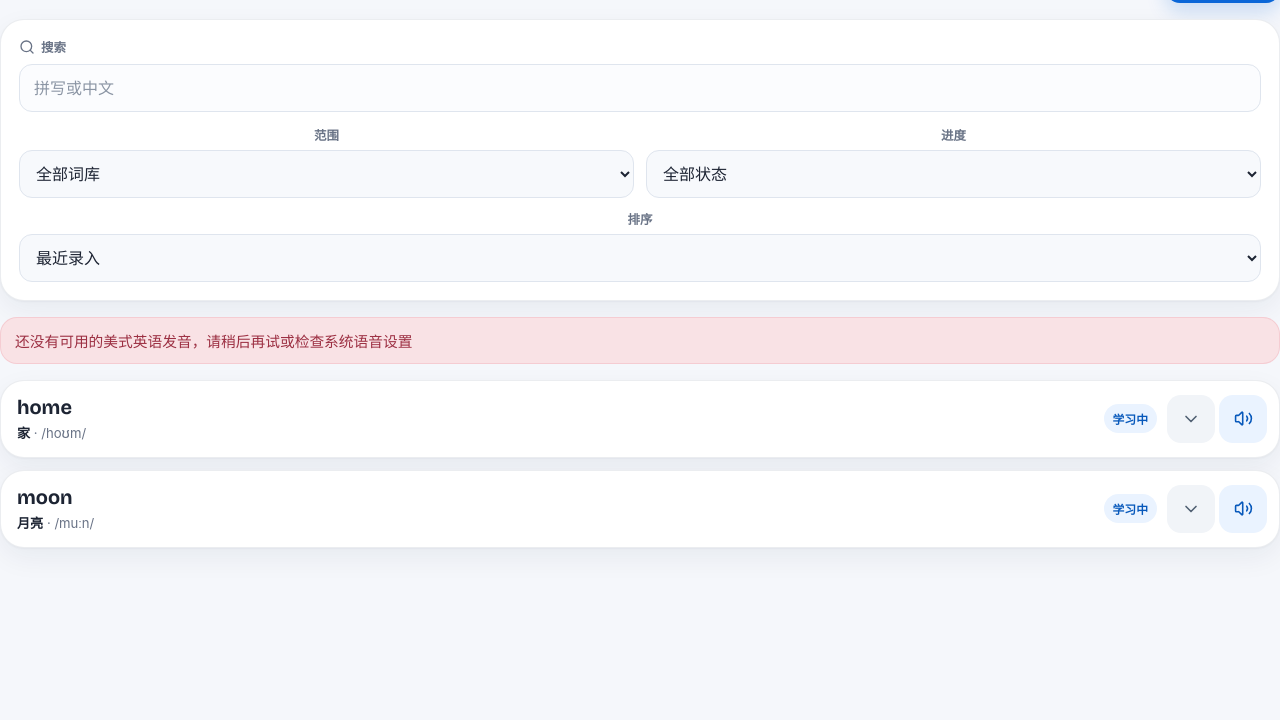
Test: WordsPage compact management › discards an unfinished edit when the parent opens another word
Click the button with aria-label "查看 home 详情": coordinates (44, 407) [1,381,1215,457]
(page scrolled)
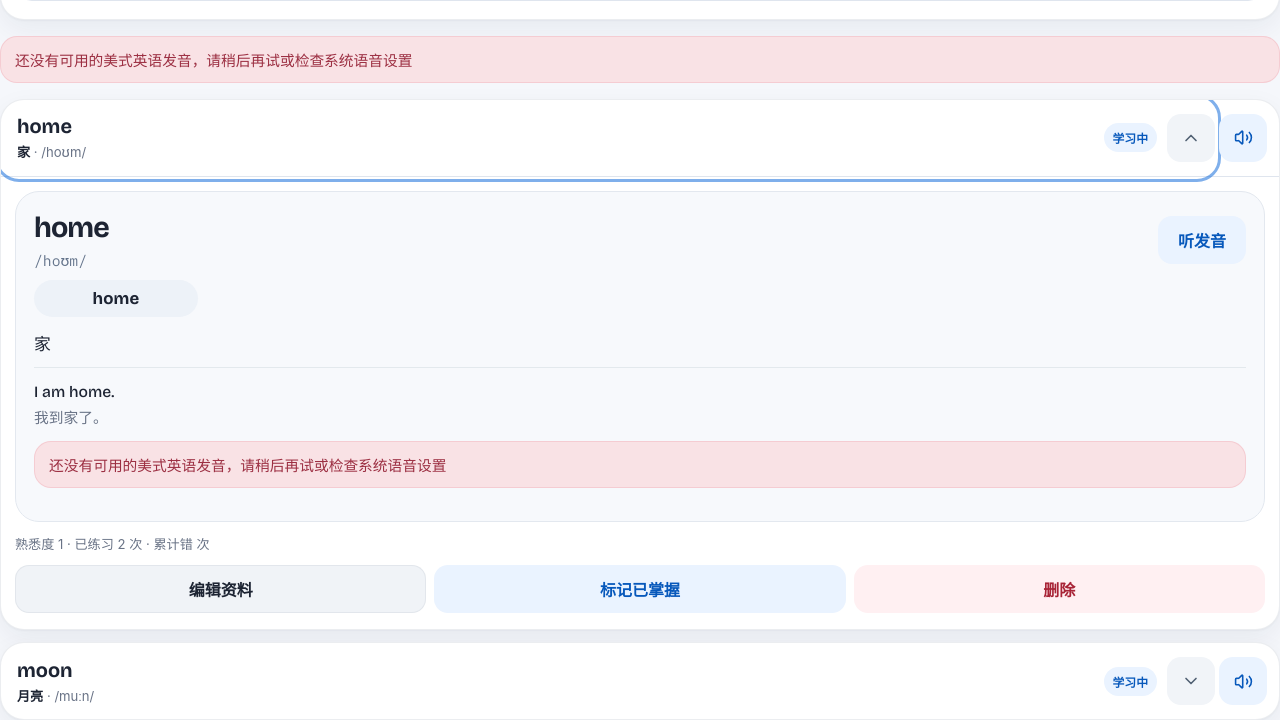
Click the button with aria-label "编辑 home": coordinates (221, 589) [15,565,426,613]
(page scrolled)
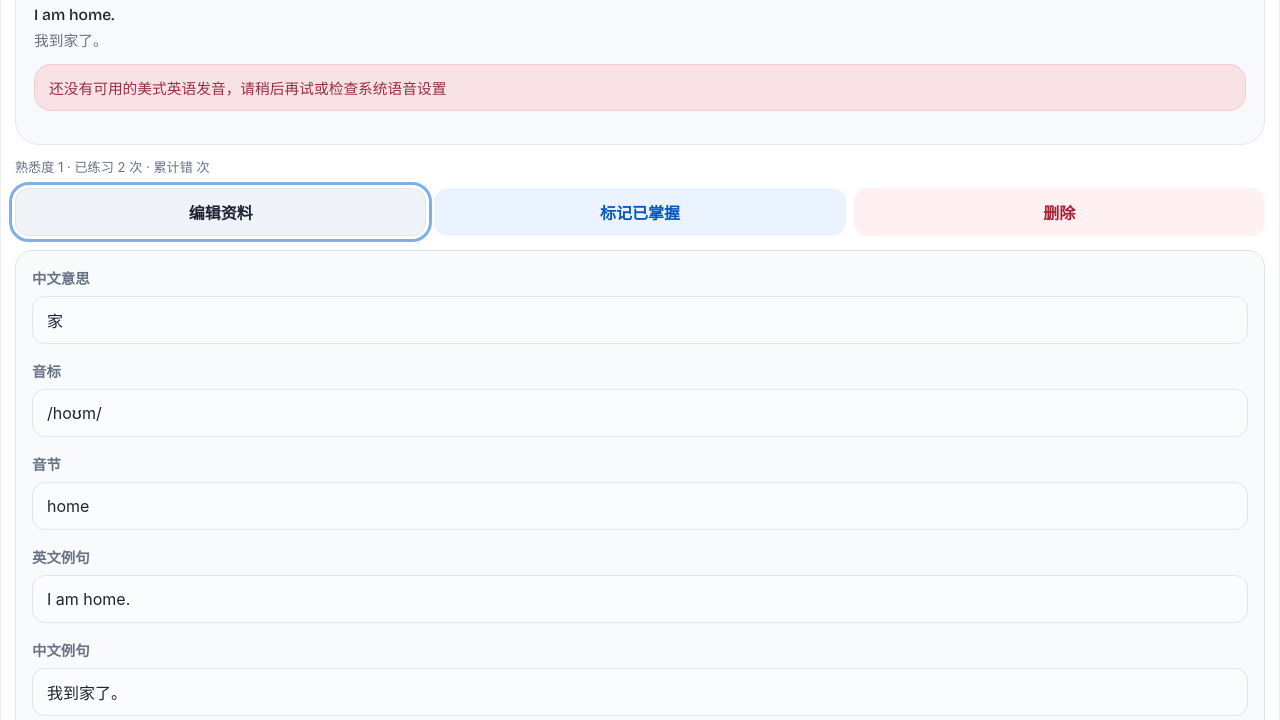
Replace the text in the field labelled "中文意思" with "房子": coordinates (640, 320) [32,296,1248,344]
(page scrolled)
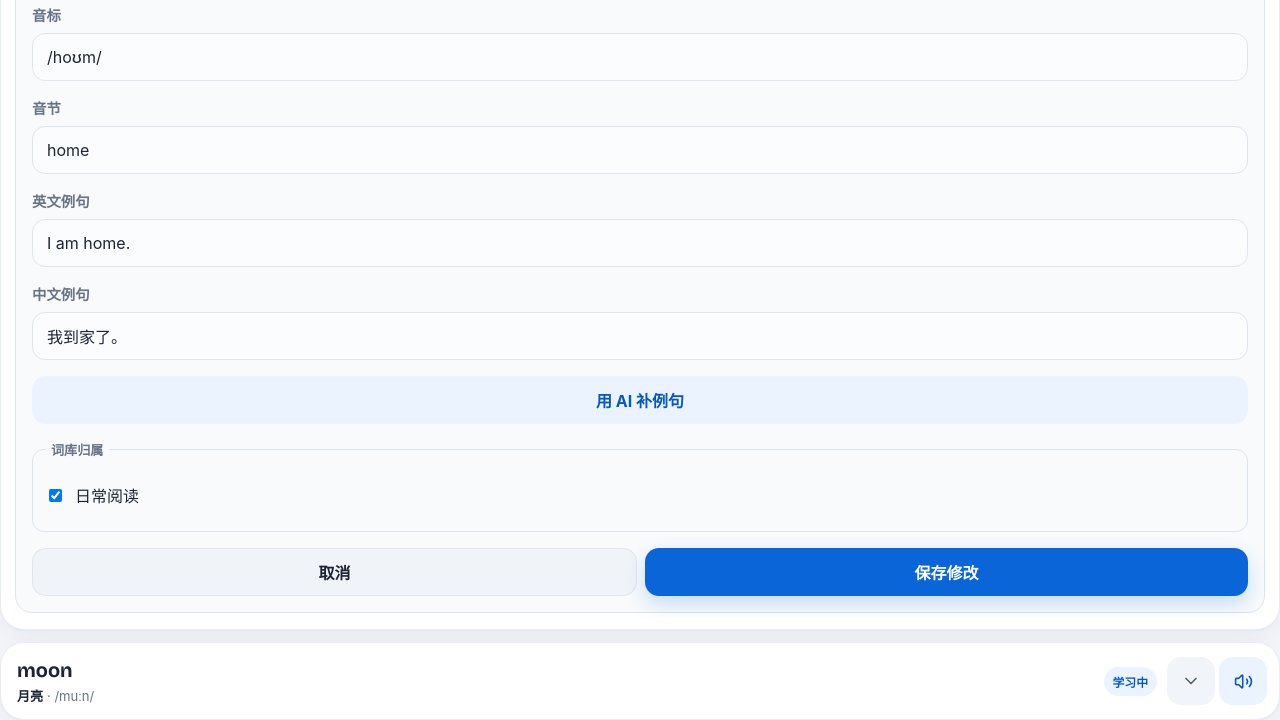
Click the button with aria-label "查看 moon 详情": coordinates (45, 670) [1,643,1215,719]
(page scrolled)
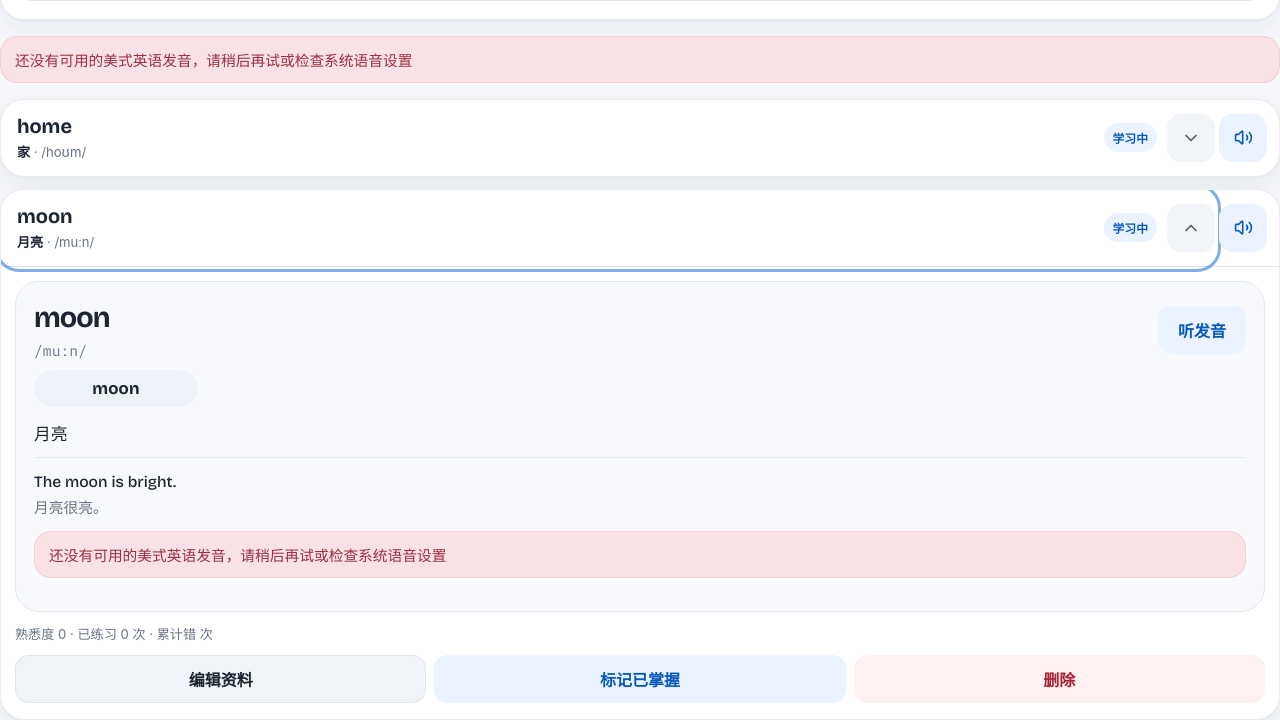
Click the button with aria-label "查看 home 详情": coordinates (44, 126) [1,100,1215,176]
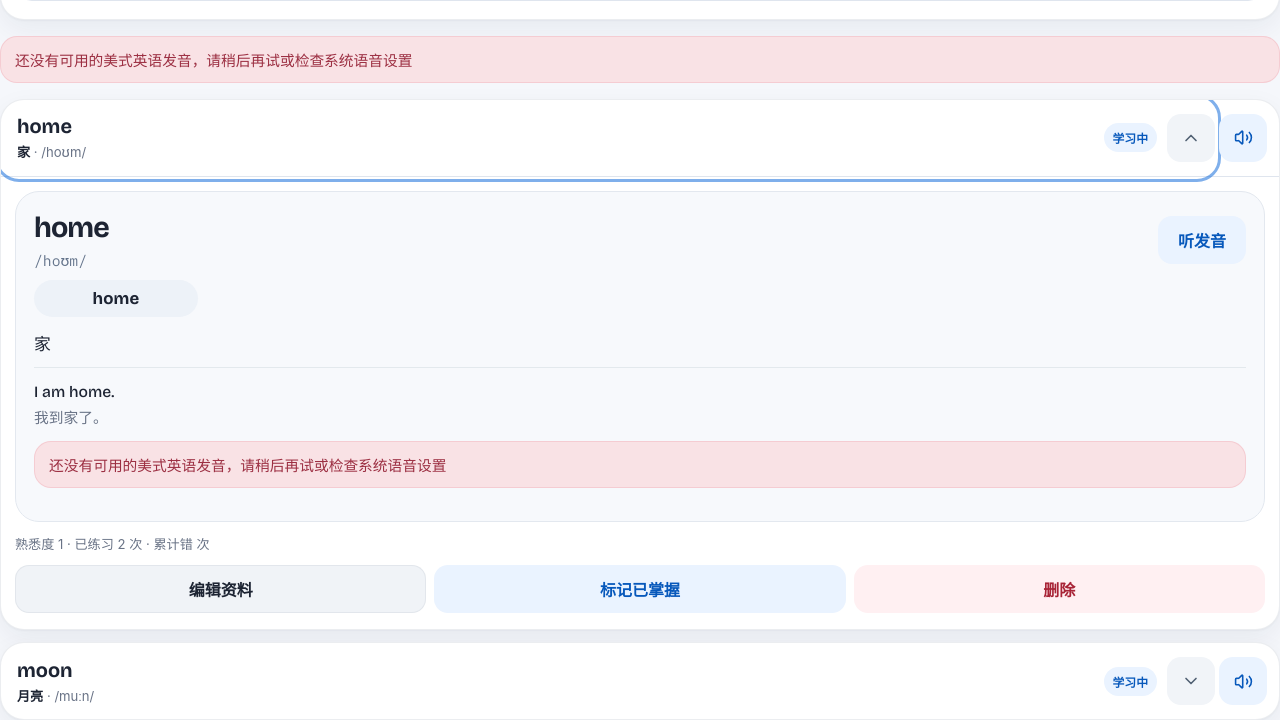
Expected: the label labelled "中文意思" is not shown
Click the button with aria-label "编辑 home": coordinates (221, 589) [15,565,426,613]
(page scrolled)
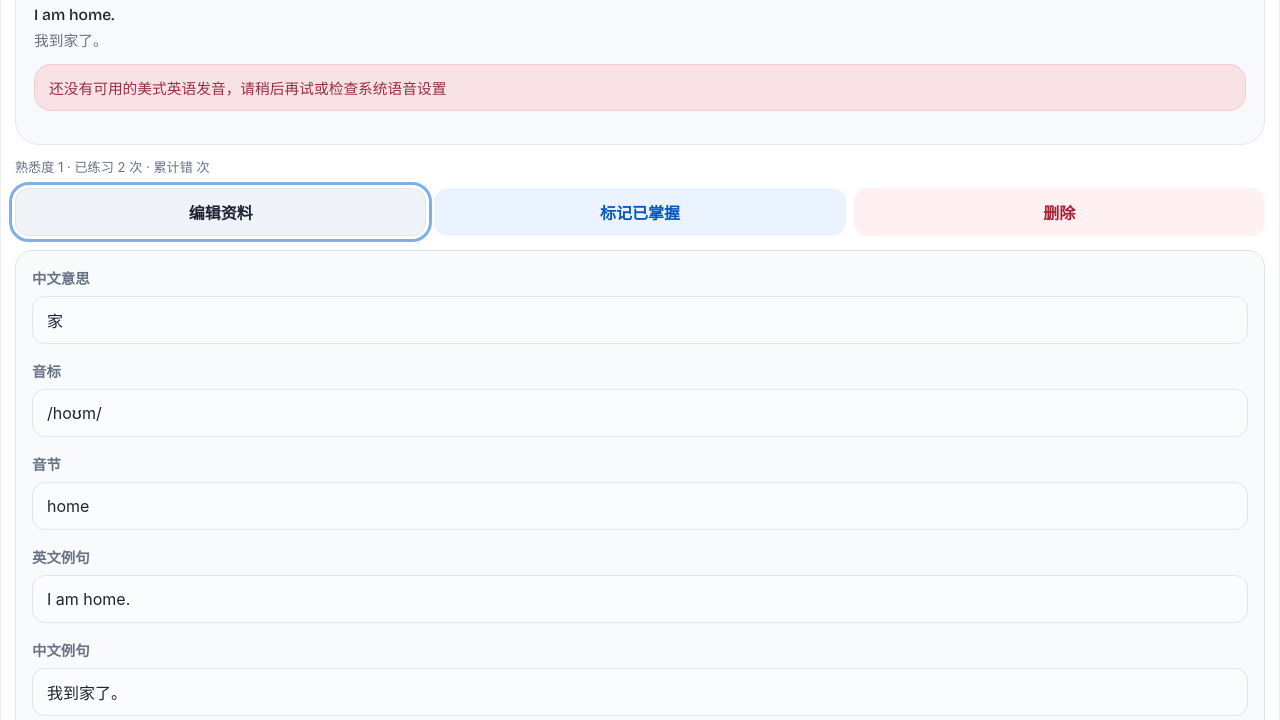
Expected: the field labelled "中文意思" holds "家", [32,296,1248,344]
